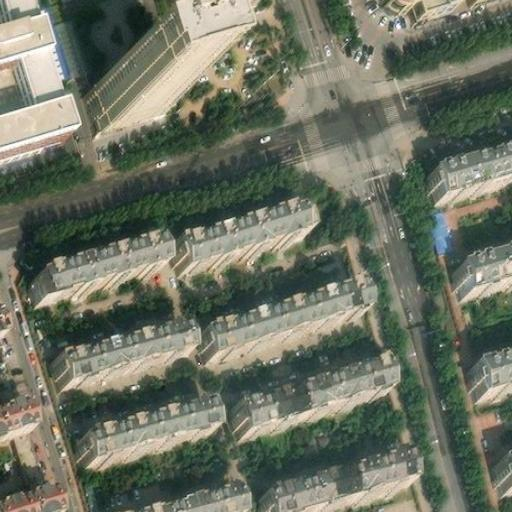building: (201, 279, 368, 358), (234, 355, 393, 432), (263, 446, 416, 512), (175, 201, 308, 269), (57, 320, 192, 386), (82, 398, 216, 464), (37, 233, 168, 297), (93, 63, 175, 125), (424, 146, 512, 201), (118, 479, 253, 511), (453, 250, 512, 297), (14, 58, 60, 112), (0, 24, 46, 72), (0, 478, 60, 512), (469, 352, 512, 395), (184, 0, 255, 23), (425, 205, 454, 247), (0, 403, 30, 439), (494, 455, 512, 493)
